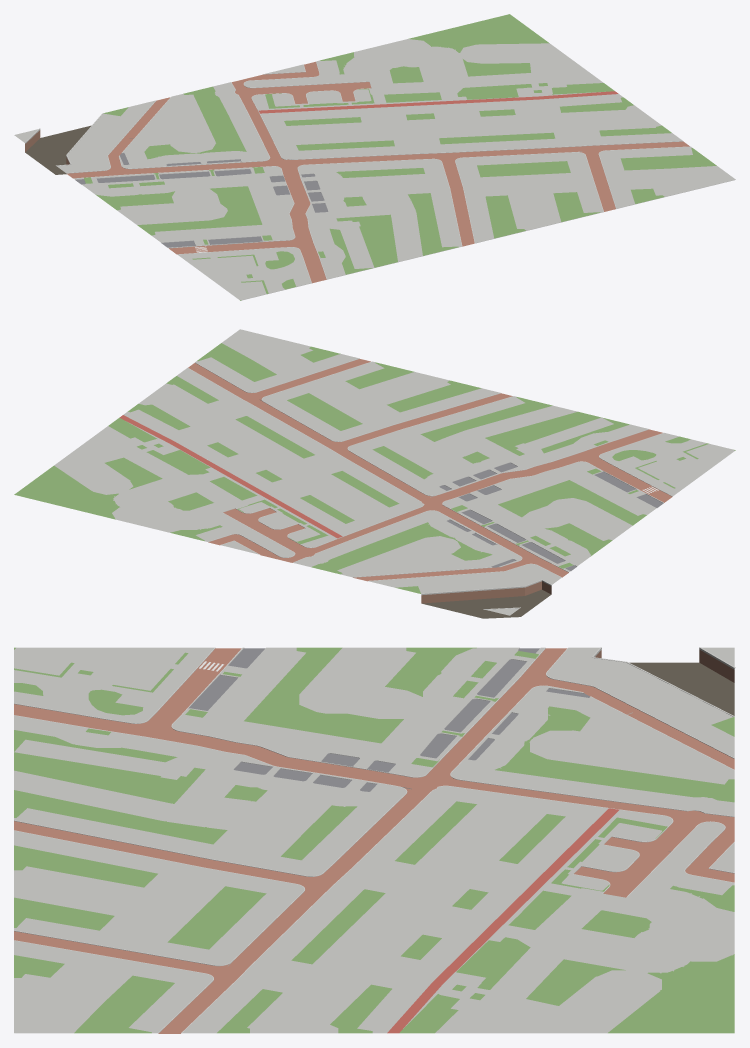
The model's file is ground_12_13.glb.
The picture shows the model from 3 angles, top to bottom: view 1: azimuth 30°, elevation 25°; view 2: azimuth 150°, elevation 25°; view 3: azimuth 270°, elevation 25°; orthographic projection. The views are drawn at different scales.
Visible parts, largest first — view 1: ground_12_13; view 2: ground_12_13; view 3: ground_12_13.
Boxes of the visible parts, box(x1,y1,x2,y2) form: ground_12_13: box(14, 14, 735, 300); ground_12_13: box(14, 329, 735, 618); ground_12_13: box(14, 647, 735, 1033).
Bounding box in the file's own units: 200 × 3.68 × 158.
